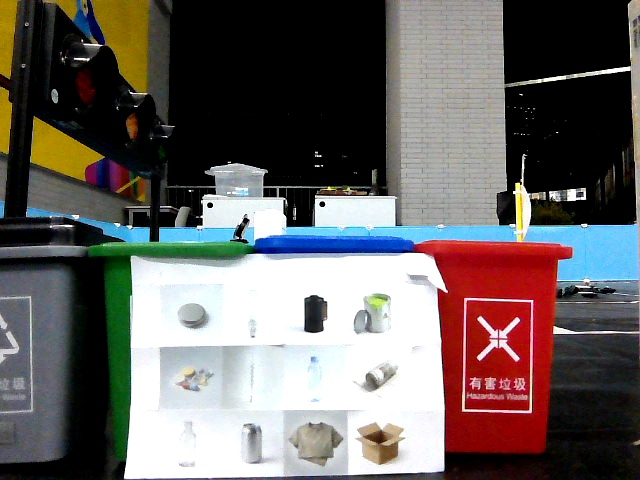hazardous_trash: (165, 286, 222, 344), (225, 286, 281, 344), (164, 351, 221, 406), (286, 287, 340, 343), (225, 349, 282, 402), (347, 287, 402, 340)
recyclable_trash: (285, 412, 348, 475), (350, 412, 414, 473), (161, 411, 220, 476), (284, 347, 343, 409), (225, 415, 283, 474), (349, 349, 407, 406)
